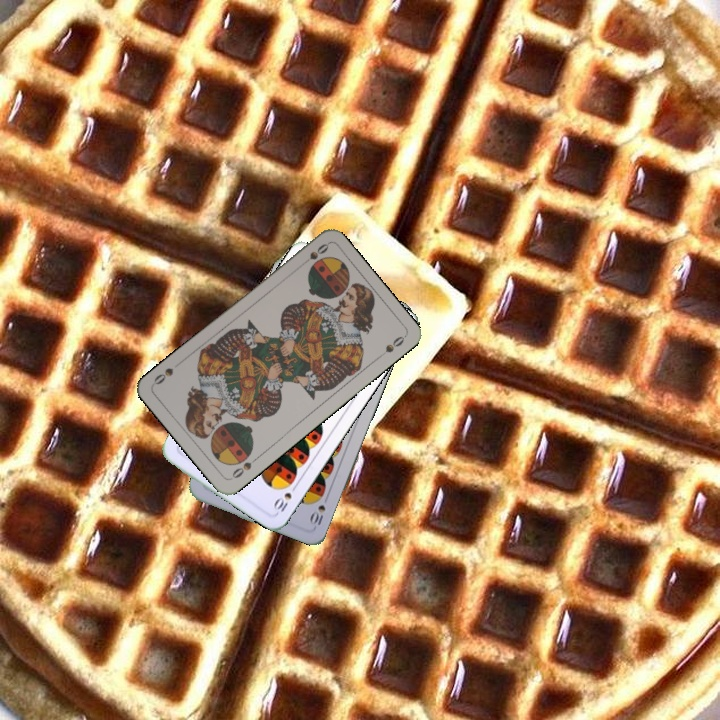S10: (269, 478, 300, 515), (306, 491, 330, 528)
SO: (297, 239, 331, 270), (227, 452, 261, 482)
